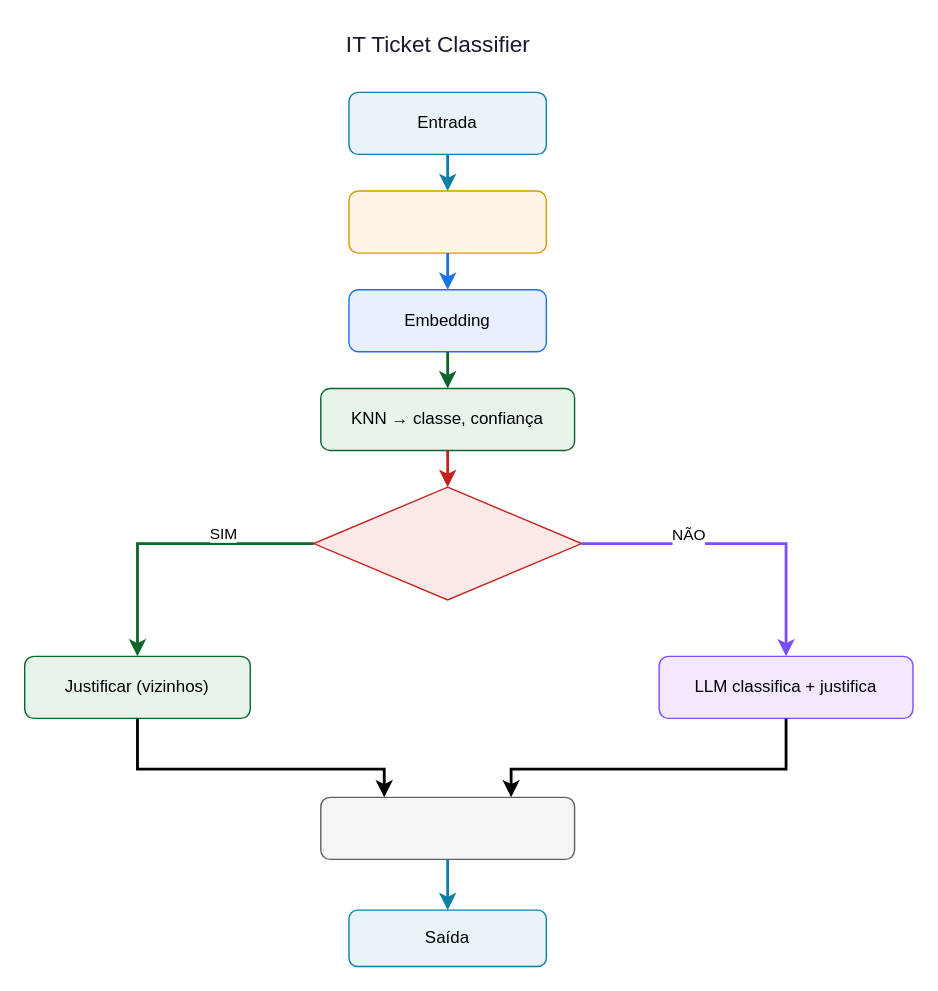
This 938x991 diagram has some shape labels left out. The centre of each missing label's shape, as x and y in pixels:
"Confiança >= Threshold?" goes at point (447, 543).
"Limpar texto" goes at point (447, 221).
"Log e retorno" goes at point (447, 827).
